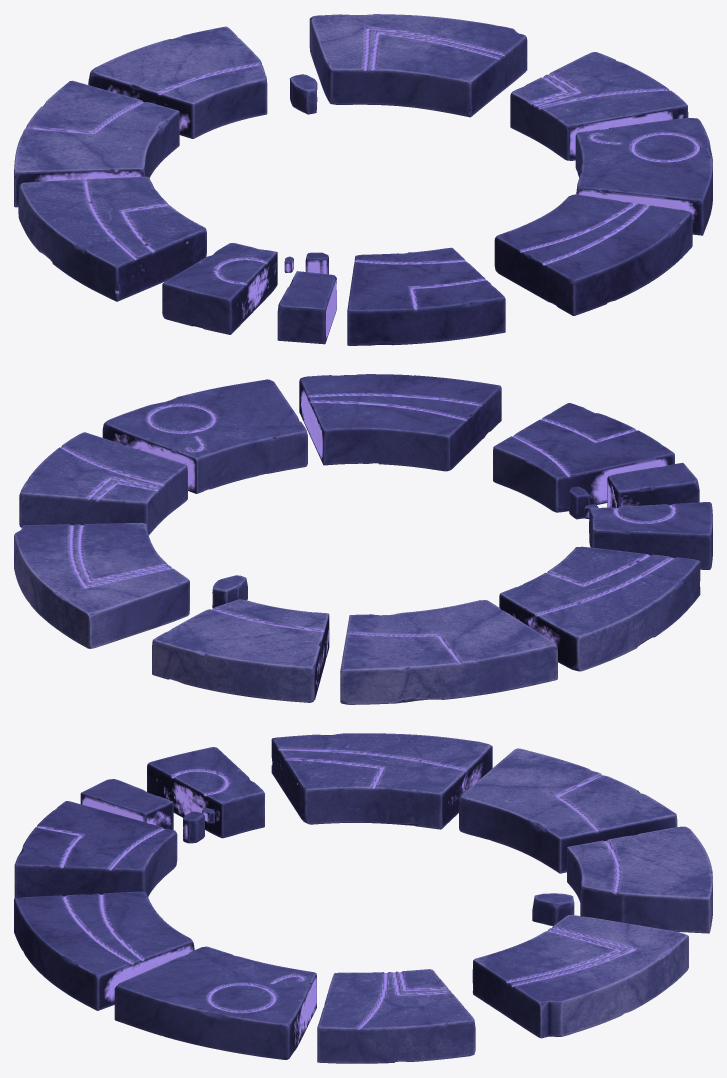
File: sky_ring_03a_nexus.glb
3 renders of one model, top to bottom at view 1: azimuth 30°, elevation 25°; view 2: azimuth 150°, elevation 25°; view 3: azimuth 270°, elevation 25°, orthographic.
Visible parts, largest first — view 1: ring_03a; view 2: ring_03a; view 3: ring_03a.
Part boxes in pixels (bbox=[...]): ring_03a: bbox=[14, 14, 712, 345]; ring_03a: bbox=[14, 374, 712, 704]; ring_03a: bbox=[14, 733, 712, 1063].
Size of the model in its own units: 87.64 by 4.96 by 87.53.
Materials: 1 (1 with a texture image).
